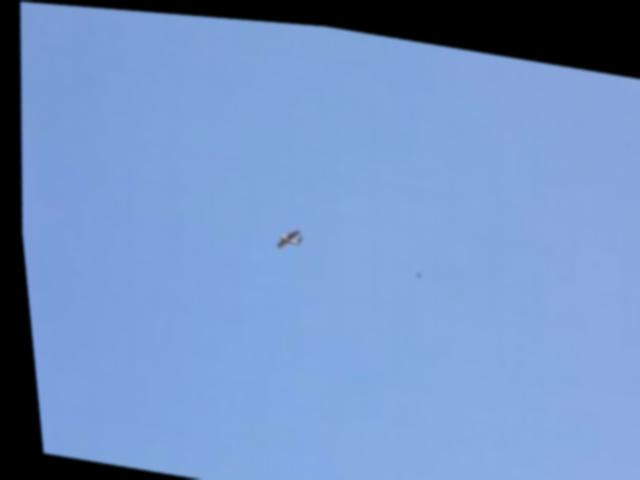uav: (270, 217, 301, 250)
